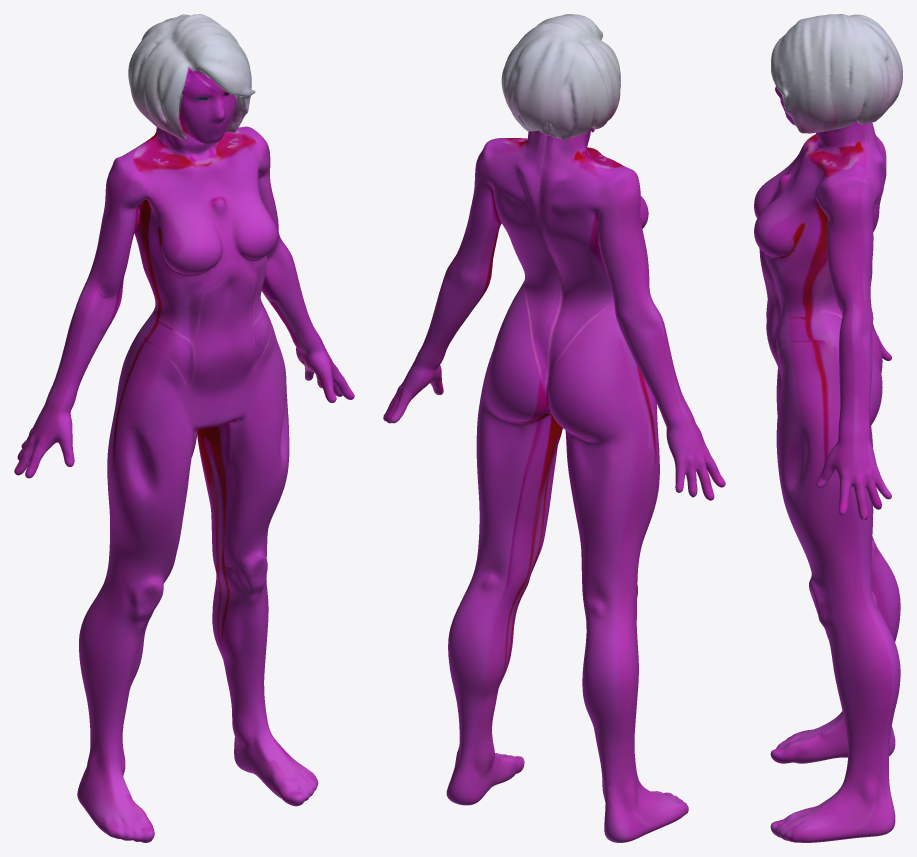
File: val17.glb
3 renders of one model, left to right at view 1: azimuth 30°, elevation 25°; view 2: azimuth 150°, elevation 25°; view 3: azimuth 270°, elevation 25°, orthographic.
Parts seen in each view (by area): view 1: Mesh; view 2: Mesh; view 3: Mesh.
Boxes of the visible parts, left/top/right/bottom form: Mesh: left=14, top=14, right=354, bottom=842; Mesh: left=383, top=14, right=725, bottom=842; Mesh: left=754, top=14, right=902, bottom=842.
Bounding box in the file's own units: 0.8335 × 1.9 × 0.3273.
1 material, 1 textured.
